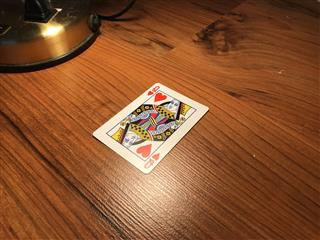QueenOfHearts: (92, 82, 209, 174)
